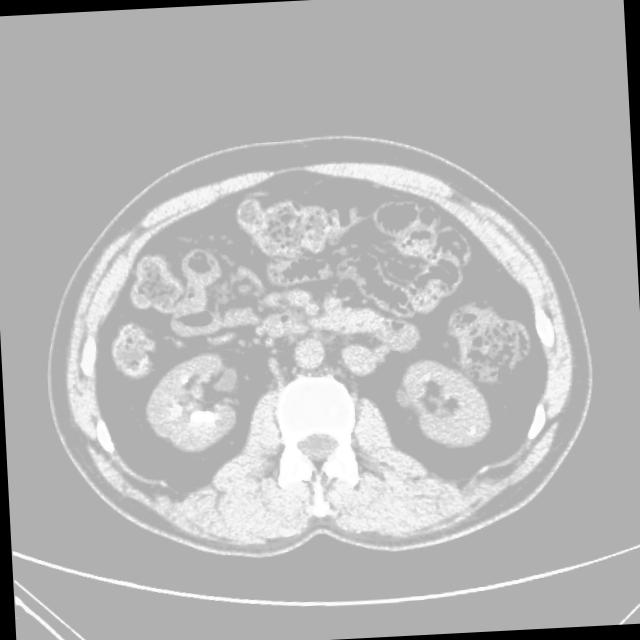STONE: (130, 274, 495, 481)
